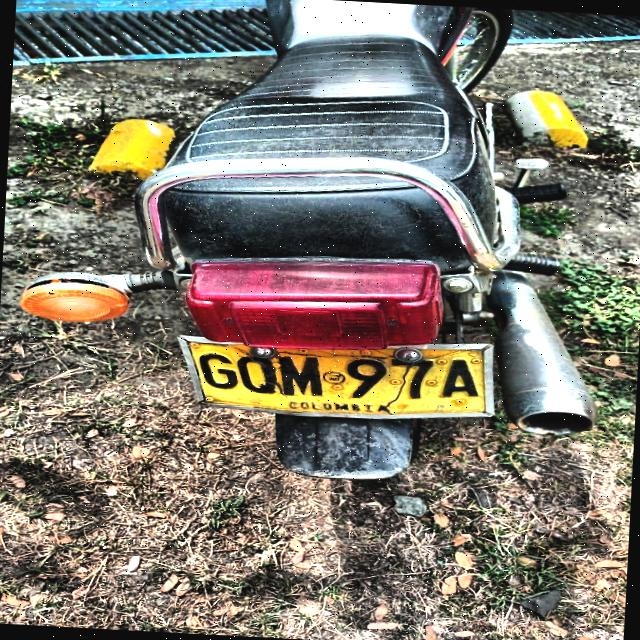plate: (182, 338, 492, 416)
